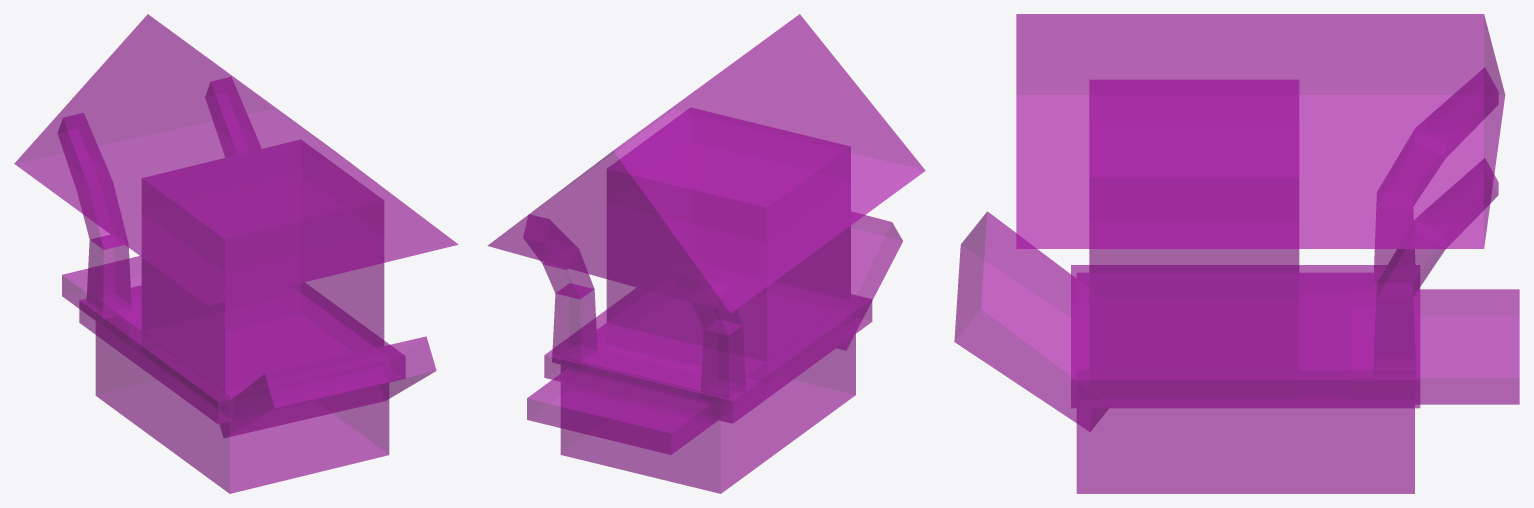
File: SM_Veh_Cart_01_Collision.fbx
3 views of the same model, side by side, from view 1: azimuth 30°, elevation 25°; view 2: azimuth 150°, elevation 25°; view 3: azimuth 270°, elevation 25° (orthographic). The views are drawn at different scales.
Parts seen in each view (by area): view 1: SM_Veh_Cart_01_Collision; view 2: SM_Veh_Cart_01_Collision; view 3: SM_Veh_Cart_01_Collision.
Boxes of the visible parts, x1=… form: SM_Veh_Cart_01_Collision: x1=14, y1=14, x2=458, y2=493; SM_Veh_Cart_01_Collision: x1=487, y1=14, x2=925, y2=493; SM_Veh_Cart_01_Collision: x1=954, y1=14, x2=1519, y2=493.
Size of the model in its own units: 188 by 246 by 292.
